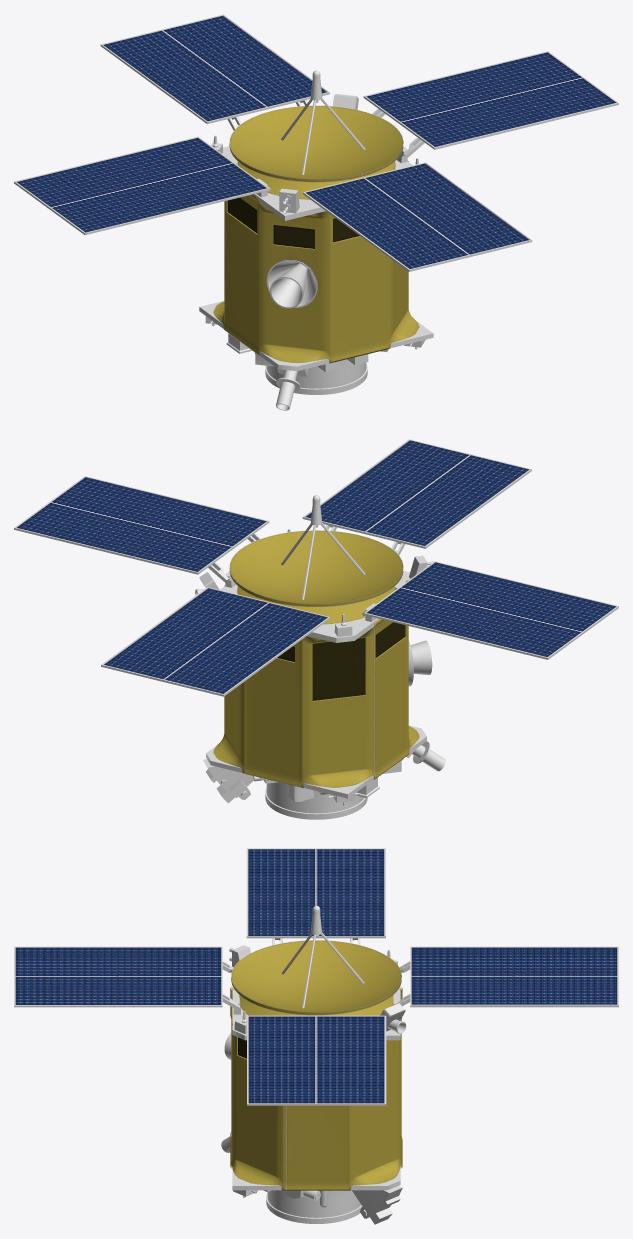
File: Satellite.glb
The picture shows the model from 3 angles, top to bottom: view 1: azimuth 30°, elevation 25°; view 2: azimuth 150°, elevation 25°; view 3: azimuth 270°, elevation 25°; orthographic projection.
Parts seen in each view (by area): view 1: satellite_ar; view 2: satellite_ar; view 3: satellite_ar.
Part boxes in pixels (x1,y1,x2,y2): satellite_ar: [14, 14, 618, 410]; satellite_ar: [14, 439, 618, 819]; satellite_ar: [14, 848, 618, 1224].
Bounding box in the file's own units: 1.59 × 0.8595 × 1.59.
1 material, 1 textured.
